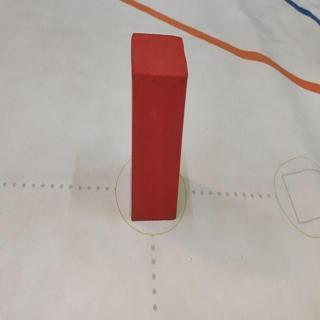redbox: (129, 31, 188, 222)
